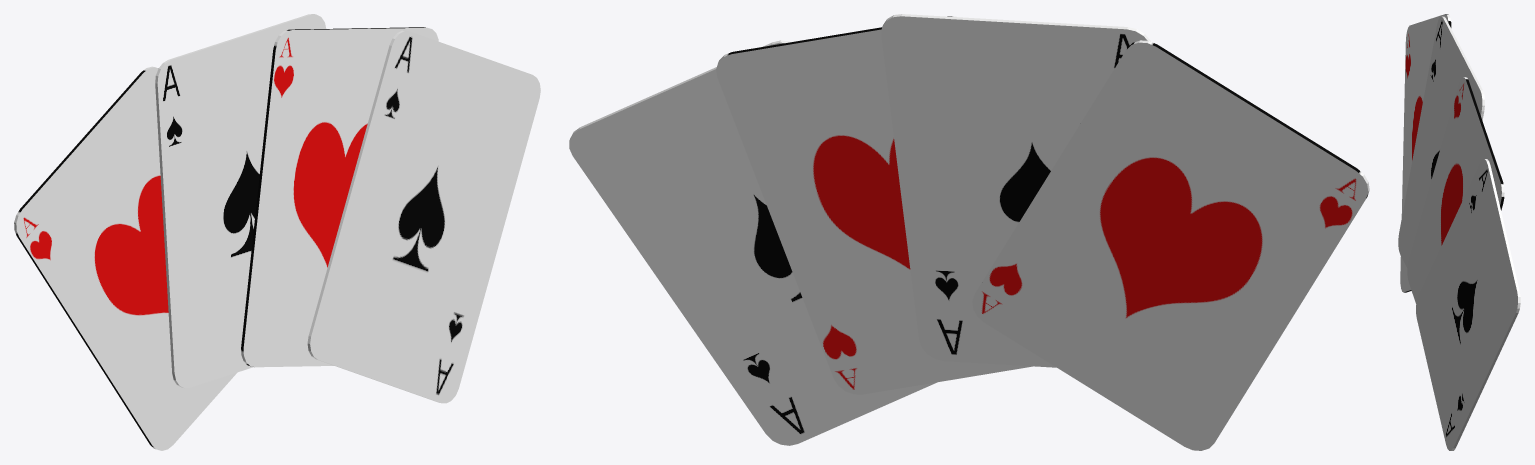
Rendered from Cuatro.glb.
3 renders of one model, left to right at view 1: azimuth 30°, elevation 25°; view 2: azimuth 150°, elevation 25°; view 3: azimuth 270°, elevation 25°, orthographic. The views are drawn at different scales.
Parts seen in each view (by area): view 1: Plane.003, Plane, Plane.001, Plane.002; view 2: Plane, Plane.001, Plane.003, Plane.002; view 3: Plane.003, Plane.002, Plane.001, Plane.
Part boxes in pixels (left/top/right/bottom): Plane.003: left=307, top=30, right=540, bottom=403; Plane: left=14, top=66, right=237, bottom=450; Plane.001: left=155, top=14, right=326, bottom=388; Plane.002: left=241, top=27, right=438, bottom=367; Plane: left=972, top=40, right=1369, bottom=450; Plane.001: left=881, top=14, right=1150, bottom=367; Plane.003: left=569, top=40, right=936, bottom=445; Plane.002: left=716, top=16, right=1032, bottom=394; Plane.003: left=1416, top=159, right=1520, bottom=450; Plane.002: left=1407, top=77, right=1504, bottom=303; Plane.001: left=1398, top=16, right=1484, bottom=267; Plane: left=1400, top=14, right=1451, bottom=292.
Bounding box in the file's own units: 9.69 × 6.42 × 2.2.
2 materials, 2 textured.
